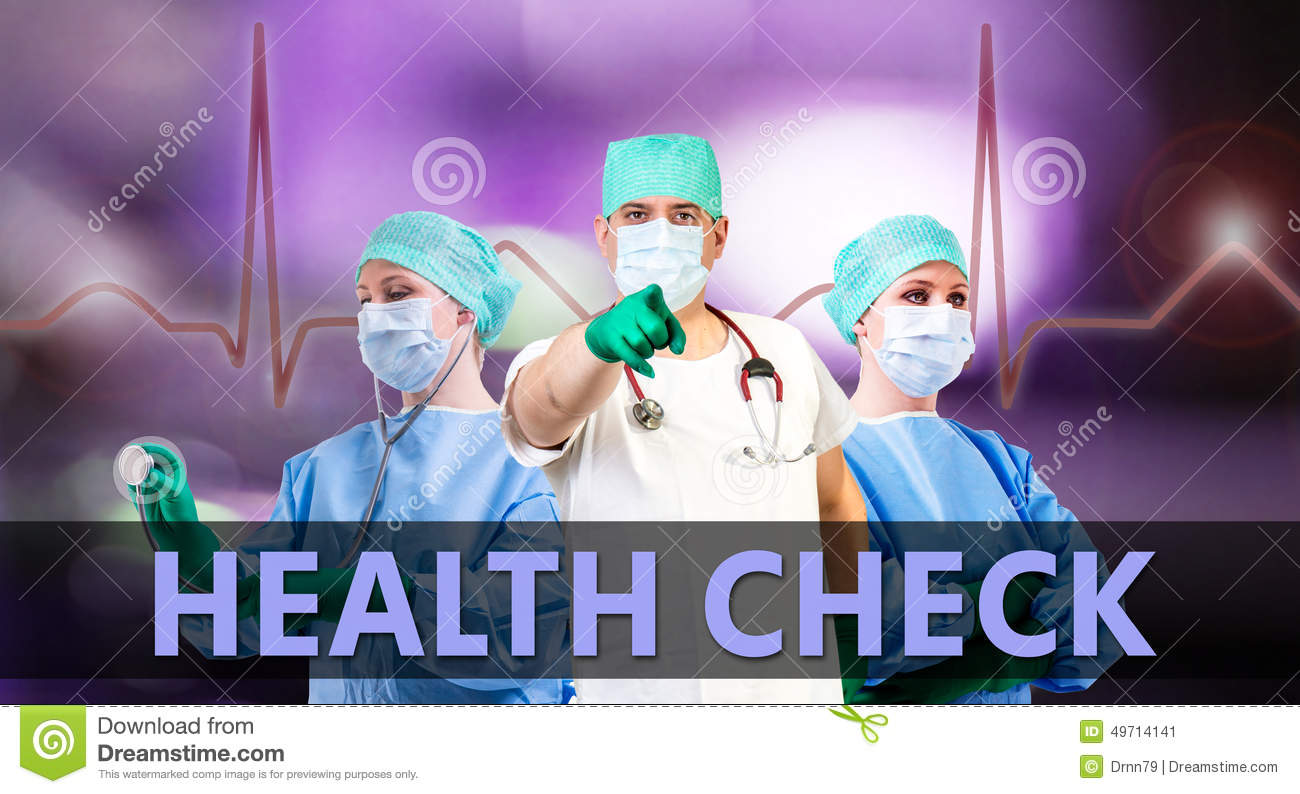mask: (606, 222, 724, 305), (876, 309, 985, 397), (352, 302, 462, 388)
